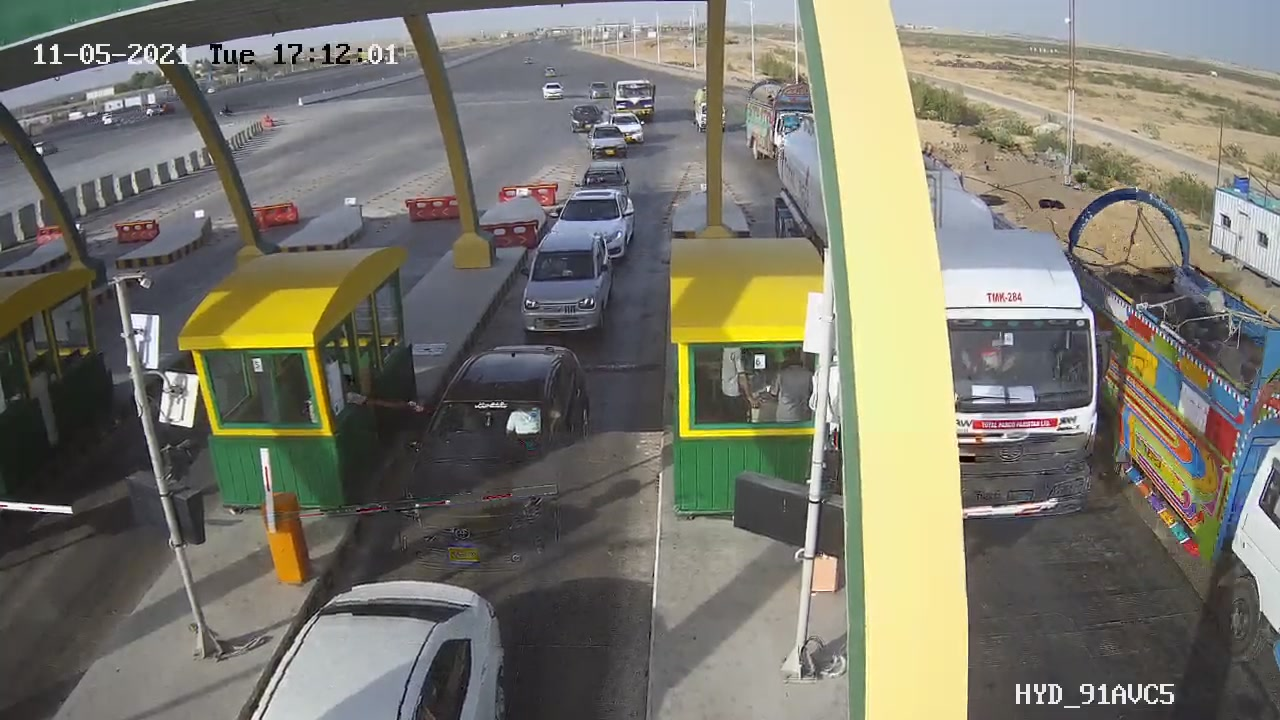F1: (500, 225, 630, 352)
